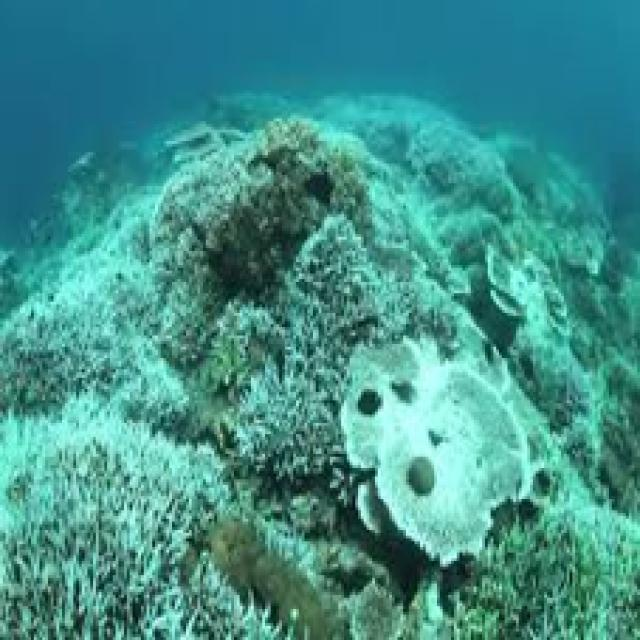Bleached: (1, 409, 215, 640), (346, 341, 533, 567), (1, 255, 185, 435), (472, 508, 640, 640), (280, 213, 408, 378), (149, 135, 273, 270), (229, 367, 346, 477), (526, 341, 601, 469), (492, 246, 570, 344), (191, 568, 282, 640), (161, 270, 225, 364), (352, 582, 405, 640)
Healthy: (212, 514, 333, 640)
